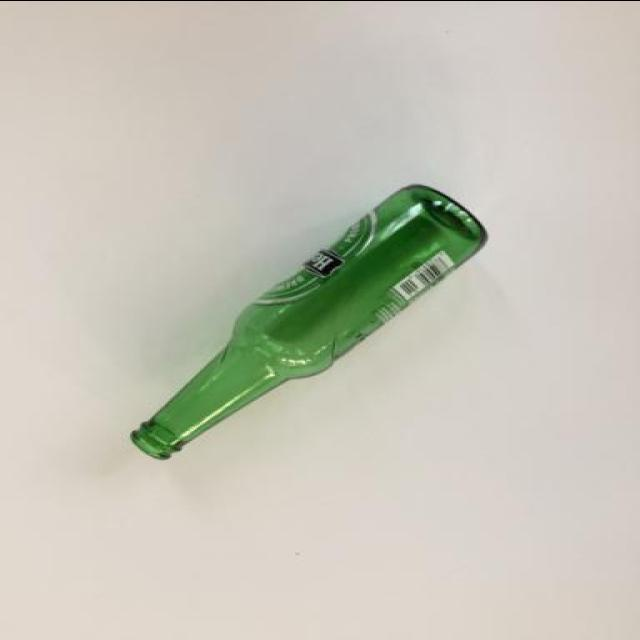litter: (128, 180, 494, 462)
